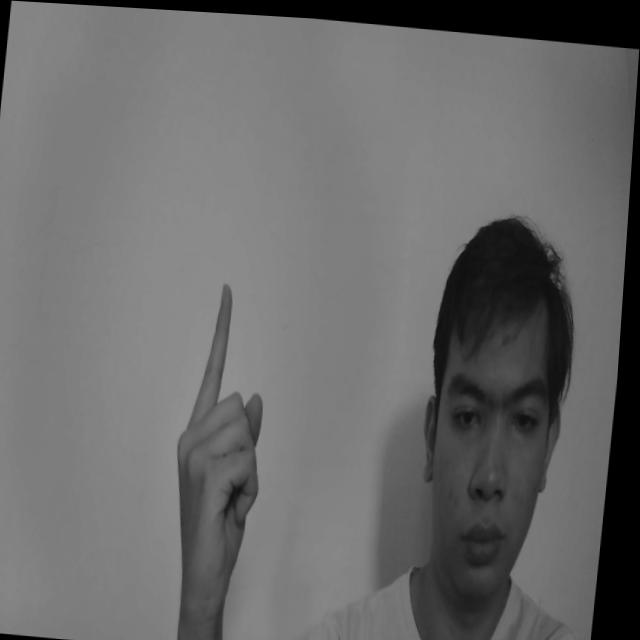D: (170, 276, 284, 616)
